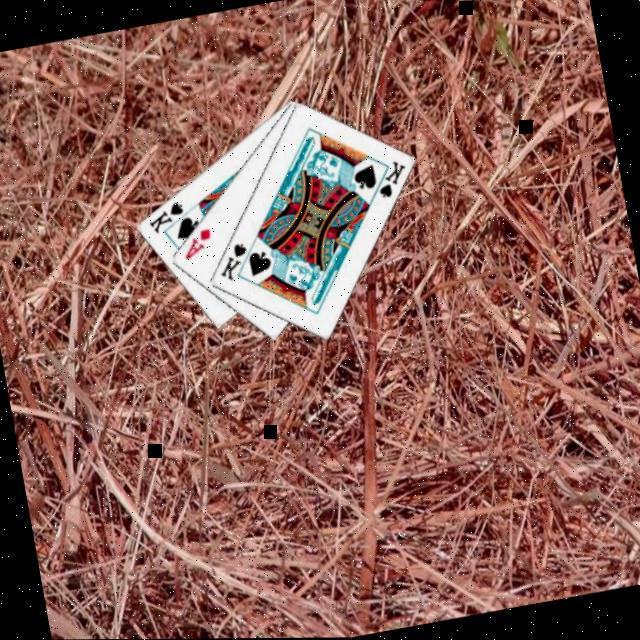AD: (178, 224, 218, 262)
KS: (366, 154, 414, 202), (213, 238, 256, 284), (144, 196, 190, 236)
